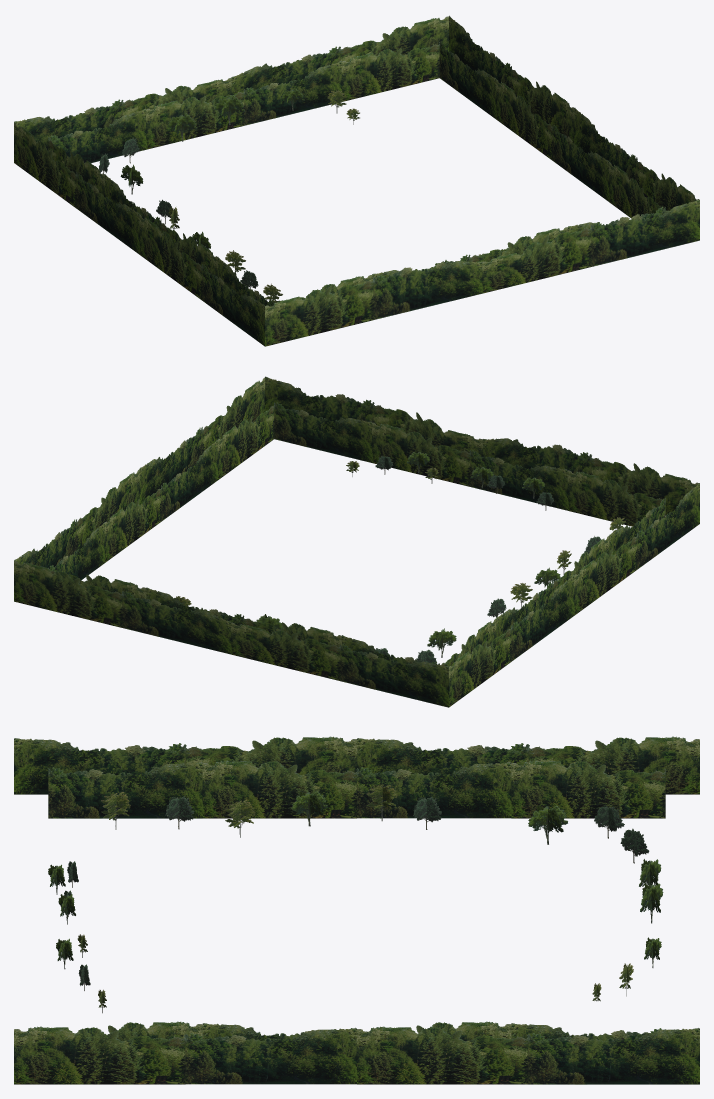
File: st_020_tree_far.fbx
3 views of the same model, one above another, from view 1: azimuth 30°, elevation 25°; view 2: azimuth 150°, elevation 25°; view 3: azimuth 270°, elevation 25° (orthographic). The views are drawn at different scales.
Visible parts, largest first — view 1: st_020_Tree_far_out; view 2: st_020_Tree_far_out; view 3: st_020_Tree_far_out.
Part boxes in pixels (box(x1,y1,x2,y2)): st_020_Tree_far_out: box(14, 15, 699, 346); st_020_Tree_far_out: box(14, 376, 699, 707); st_020_Tree_far_out: box(14, 736, 699, 1084).
Size of the model in its own units: 372 by 50.2 by 372.
